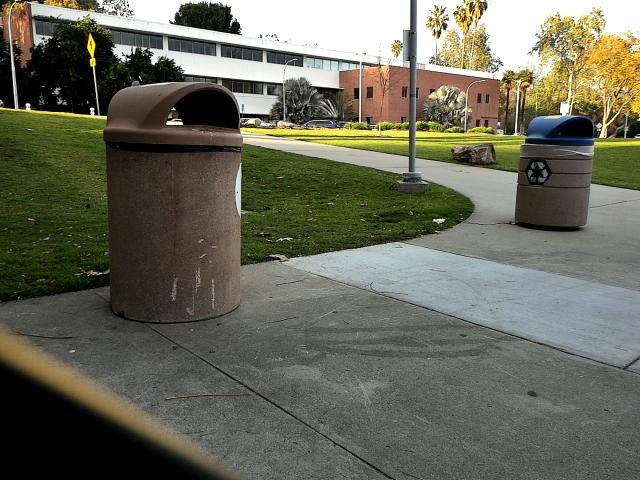trashcan: (96, 73, 259, 330), (518, 102, 592, 236)
